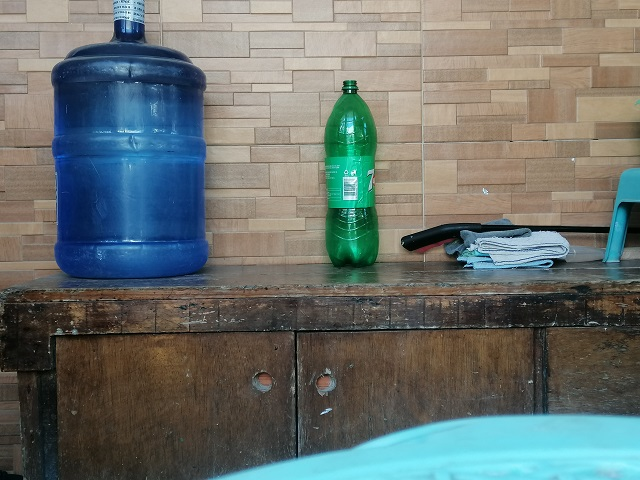bottle: (51, 1, 209, 280), (323, 79, 379, 266)
wall: (407, 5, 612, 195), (213, 8, 320, 260)
